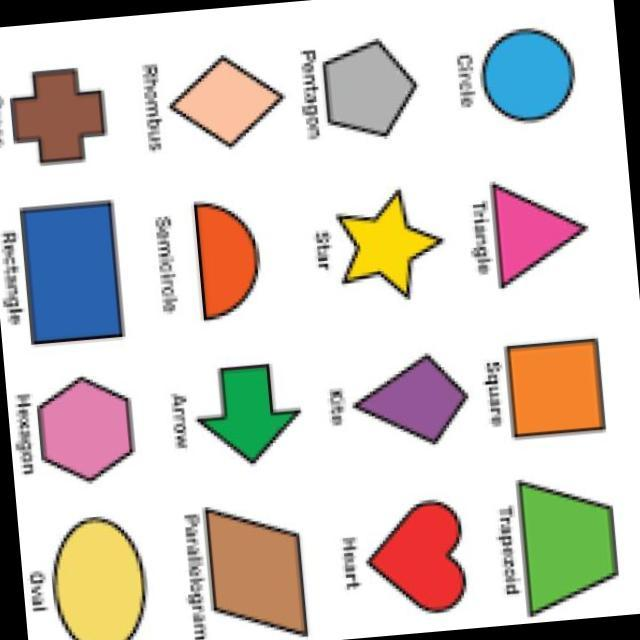circle: (460, 13, 596, 138)
cross: (0, 50, 124, 172)
square: (491, 331, 613, 454)
triangle: (471, 166, 599, 302)
